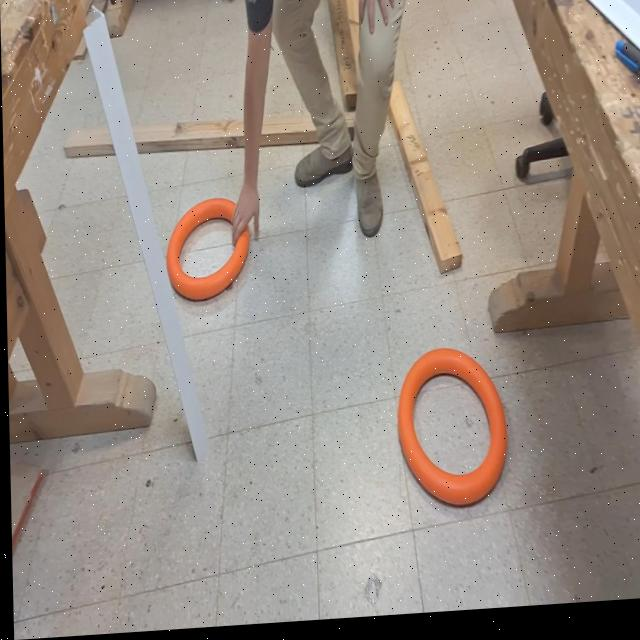note: (390, 348, 505, 518), (163, 199, 251, 307)
